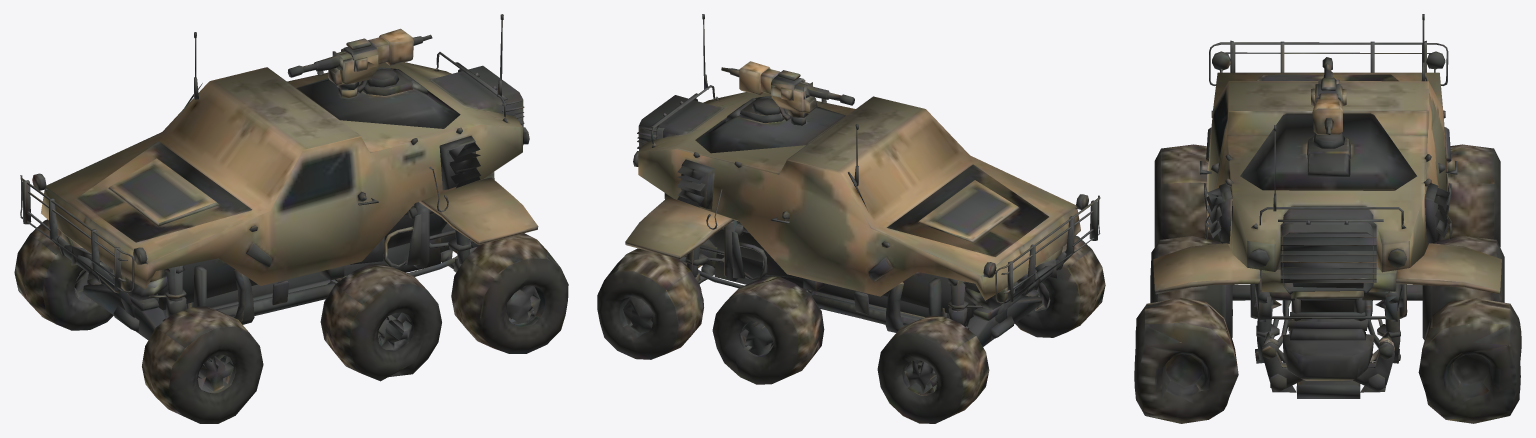
Rendered from v_rover.glb.
3 renders of one model, left to right at view 1: azimuth 30°, elevation 25°; view 2: azimuth 150°, elevation 25°; view 3: azimuth 270°, elevation 25°, orthographic. The views are drawn at different scales.
Size of the model in its own units: 0.9502 by 0.6089 by 0.6905.
Materials: 1 (1 with a texture image).
